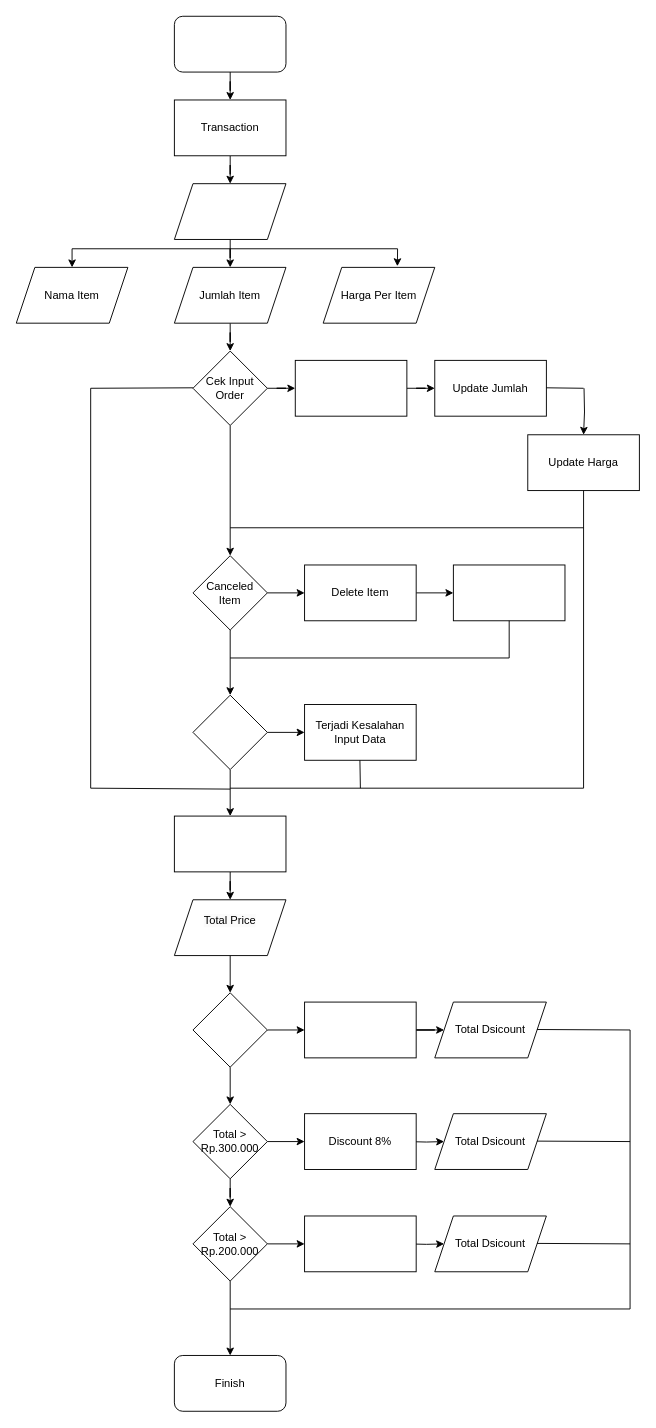
Image size: 656x1428. Some labels were removed from this diagram. Here are the shapes that lost their labels. From the top down, the box of each, then its label:
(173, 15, 286, 72): Start
(173, 183, 286, 239): Input Order
(294, 359, 407, 416): Update Nama
(452, 564, 565, 621): Reset Transaction
(192, 694, 267, 770): Check Order
(173, 815, 286, 872): Output Transaksi item yang dibeli
(192, 992, 267, 1067): Total > Rp.500.000
(304, 1001, 416, 1058): Discount 10%
(304, 1215, 416, 1272): Discount 5%
